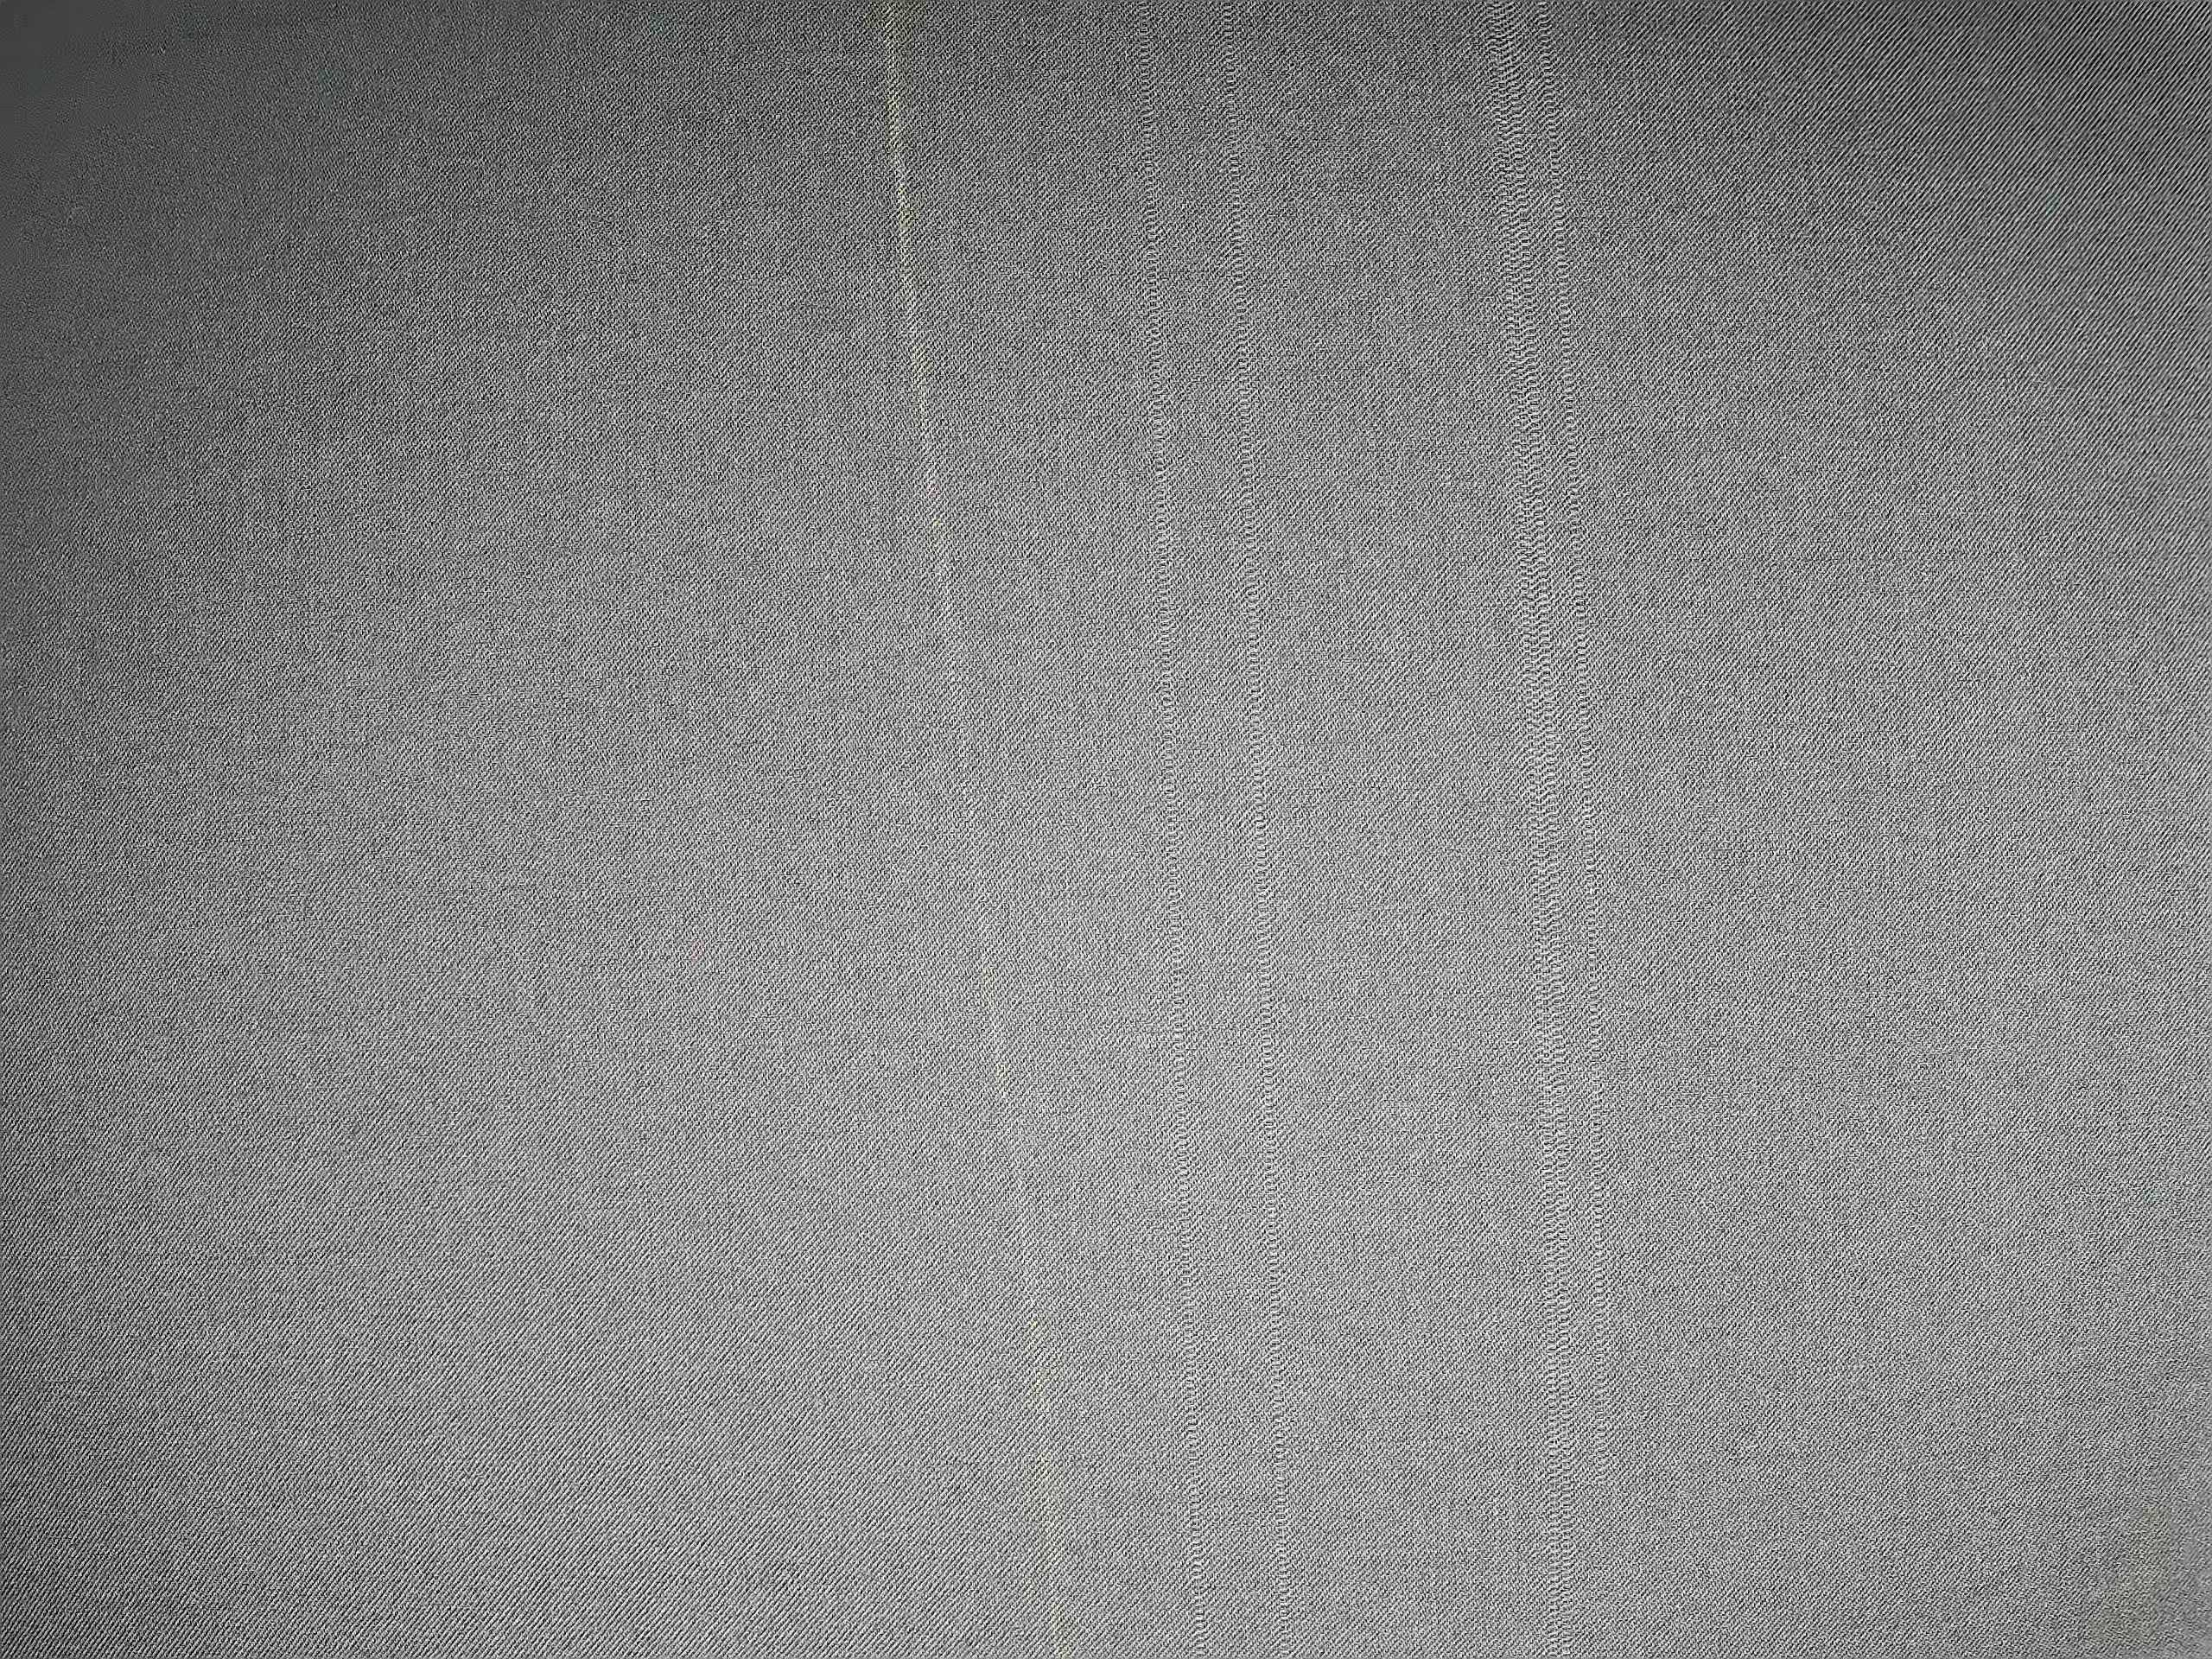lacking-warp: (1463, 5, 1672, 1654), (1116, 9, 1310, 1652)
